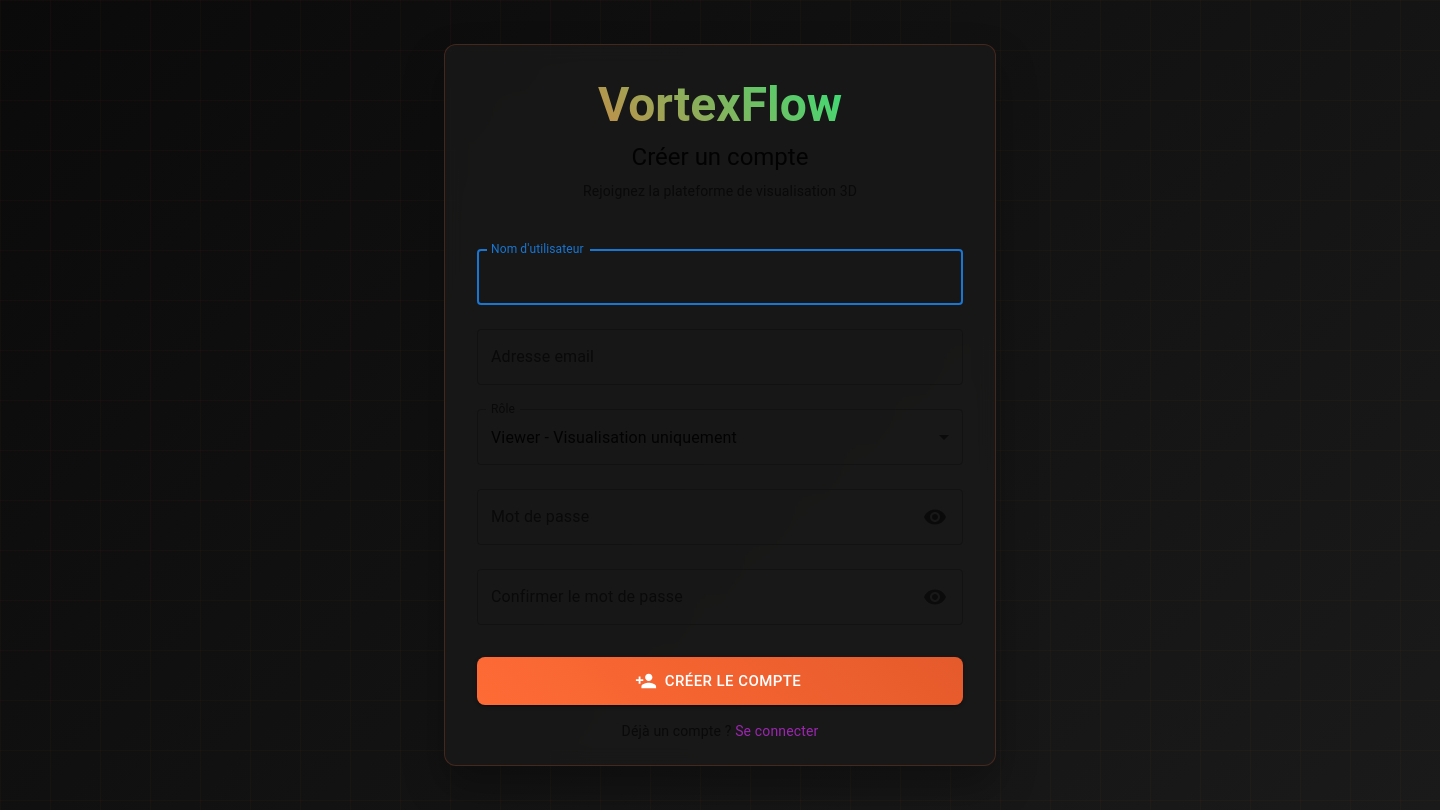
Test: RegisterPage — validation › flags every required field on empty submit
Click the button "Créer le compte".
click(720, 681)  # box [477,657,963,705]
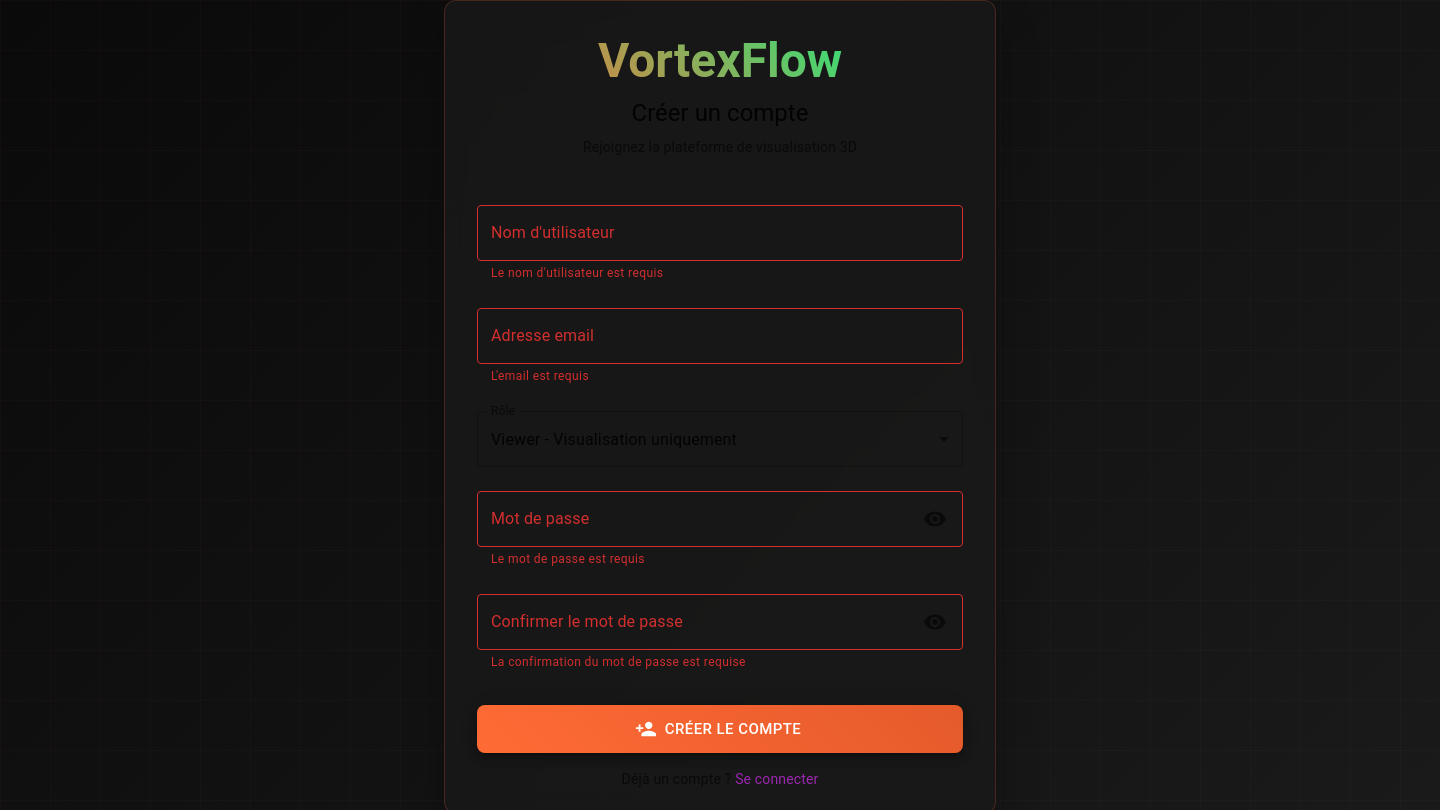
Now the text "Le nom d'utilisateur est requis" is shown, box [491,266,663,280]
Now the text "L'email est requis" is shown, box [491,369,589,383]
Now the text "Le mot de passe est requis" is shown, box [491,552,645,566]
